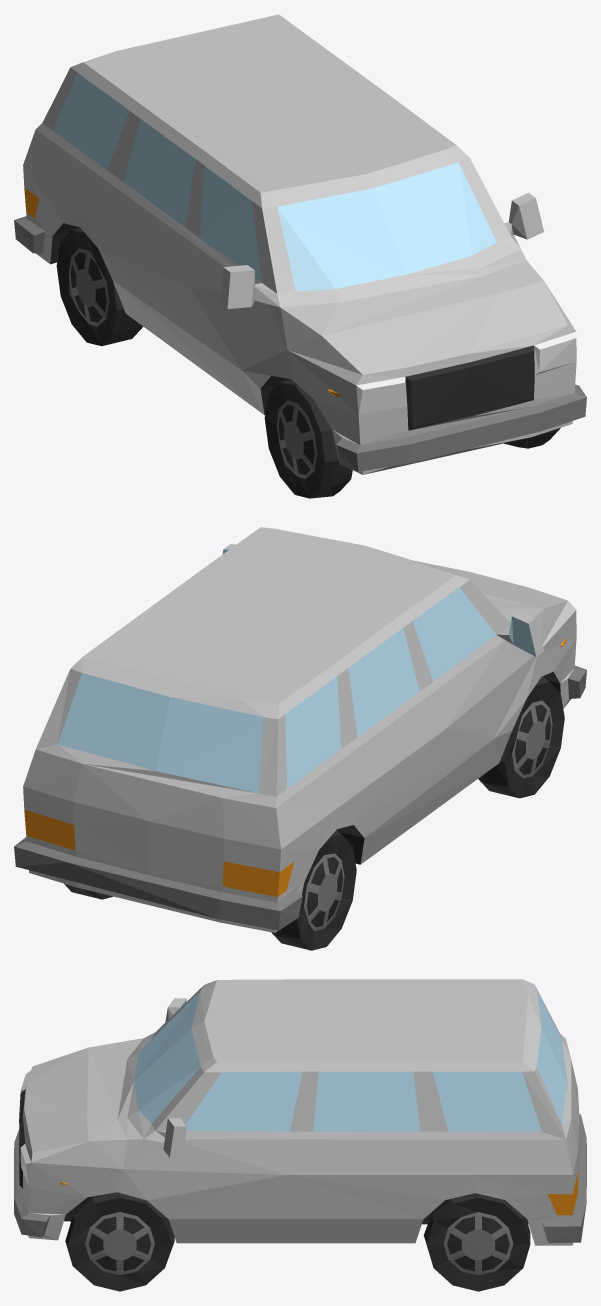
The model's file is van-neutral.glb.
The picture shows the model from 3 angles, top to bottom: view 1: azimuth 30°, elevation 25°; view 2: azimuth 150°, elevation 25°; view 3: azimuth 270°, elevation 25°; orthographic projection. The views are drawn at different scales.
Parts seen in each view (by area): view 1: Van; view 2: Van; view 3: Van.
Boxes of the visible parts, left/top/right/bottom form: Van: left=14, top=14, right=586, bottom=498; Van: left=14, top=527, right=586, bottom=950; Van: left=14, top=979, right=586, bottom=1291.
Size of the model in its own units: 43.89 by 33.94 by 79.84.
1 material, 1 textured.
